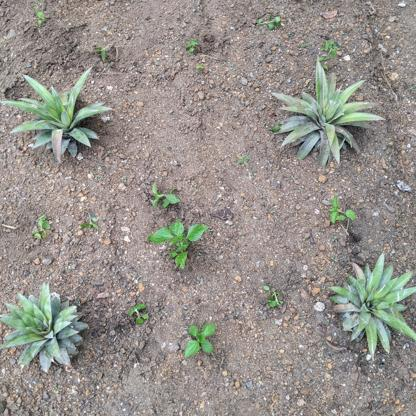pineapple: (271, 56, 386, 167), (1, 66, 114, 168), (324, 251, 416, 355), (1, 281, 92, 373)
weed: (143, 215, 217, 270), (178, 320, 220, 360), (145, 178, 191, 214), (324, 196, 361, 233), (26, 214, 60, 240), (255, 284, 284, 313)
